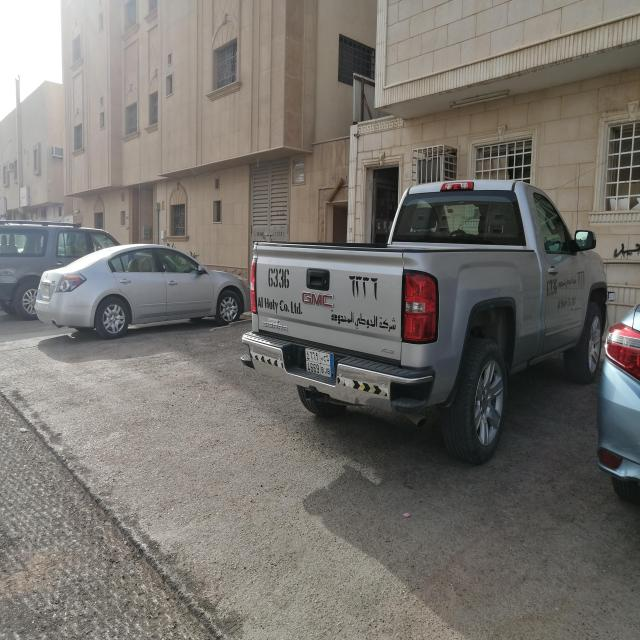license_plate: (304, 347, 334, 379)
